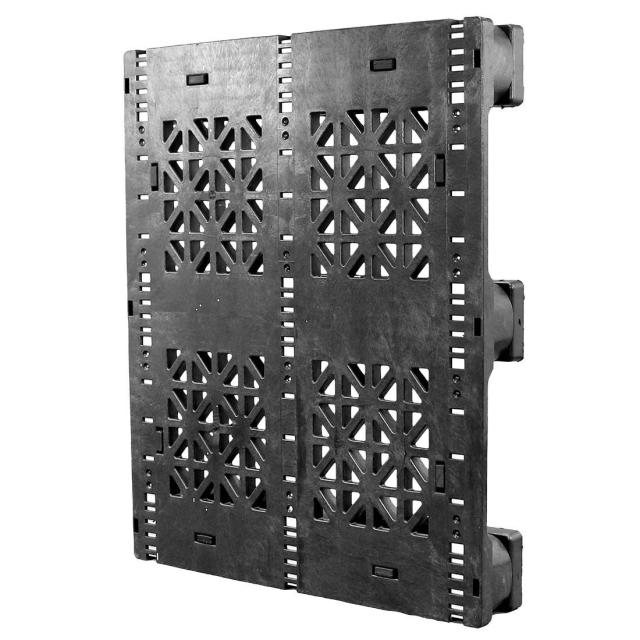non-igps: (114, 7, 532, 636)
